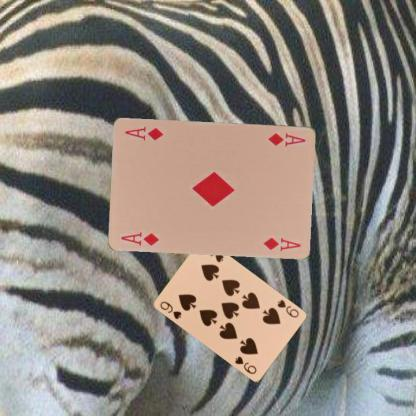9s: (157, 298, 183, 320), (274, 297, 300, 319)
Ad: (118, 229, 162, 247), (266, 130, 307, 147)
